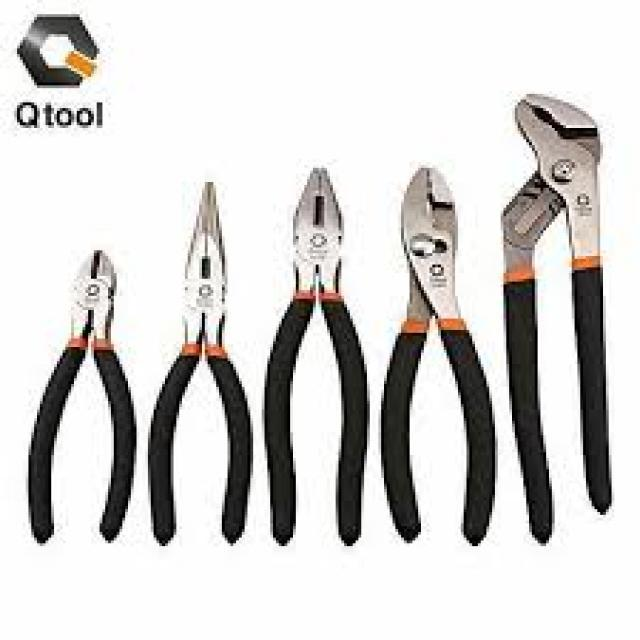pliers: (486, 80, 628, 554), (372, 158, 502, 560), (256, 160, 379, 545), (144, 175, 258, 554), (17, 239, 142, 554)
